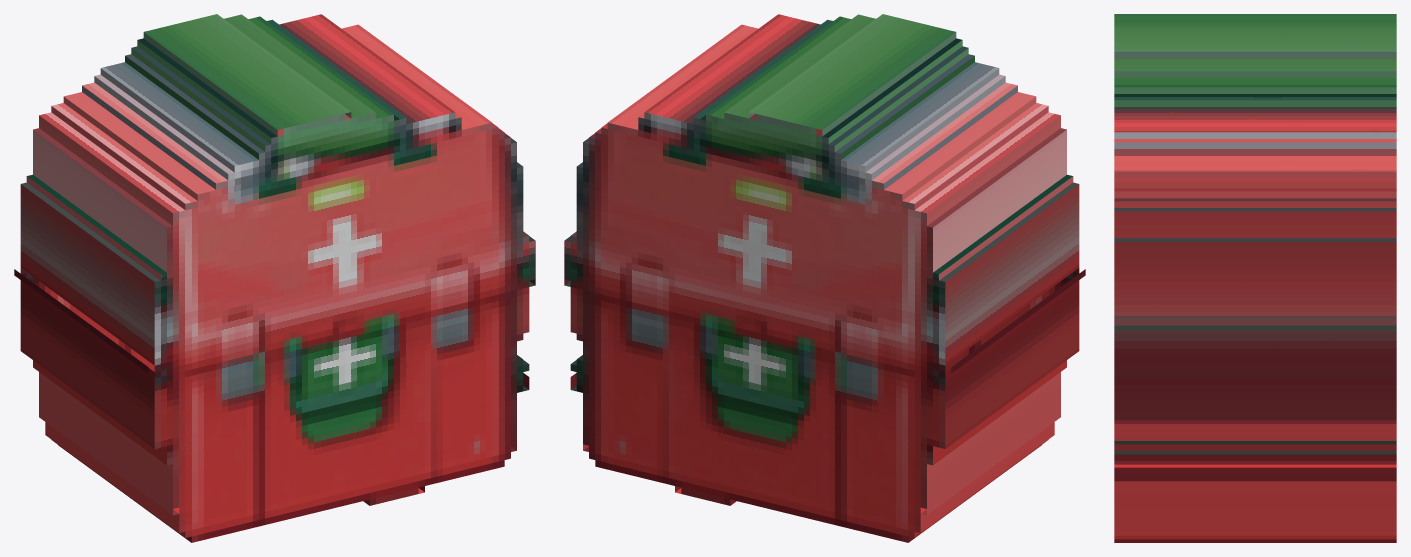
The model's file is bigmed.obj.
3 views of the same model, side by side, from view 1: azimuth 30°, elevation 25°; view 2: azimuth 150°, elevation 25°; view 3: azimuth 270°, elevation 25° (orthographic). The views are drawn at different scales.
Bounding box in the file's own units: 0.2954 × 0.2906 × 0.1772.
